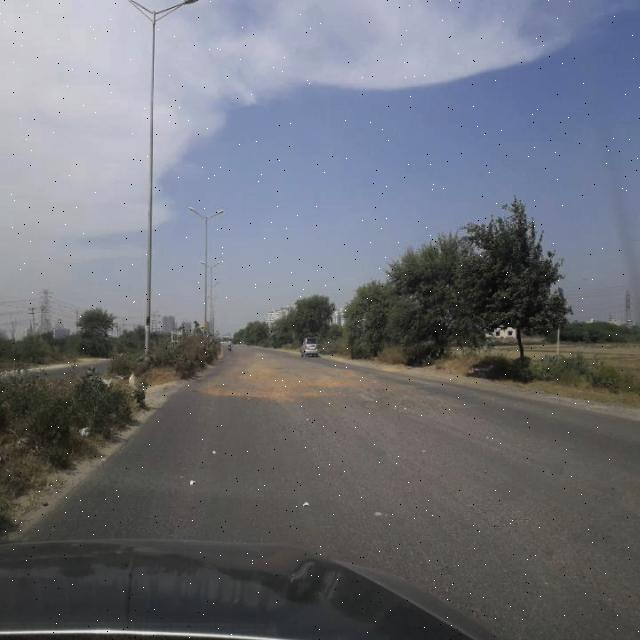D40: (186, 361, 389, 401), (379, 379, 472, 414)
